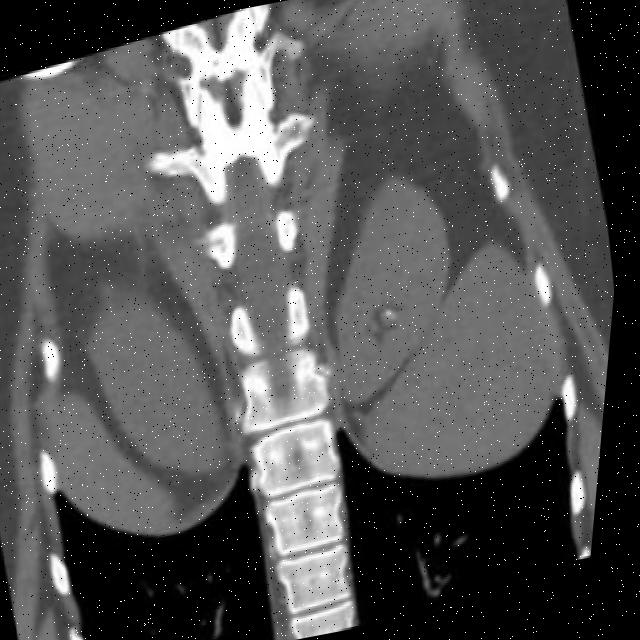Tas_Var: (386, 306, 399, 318), (394, 312, 404, 321)
